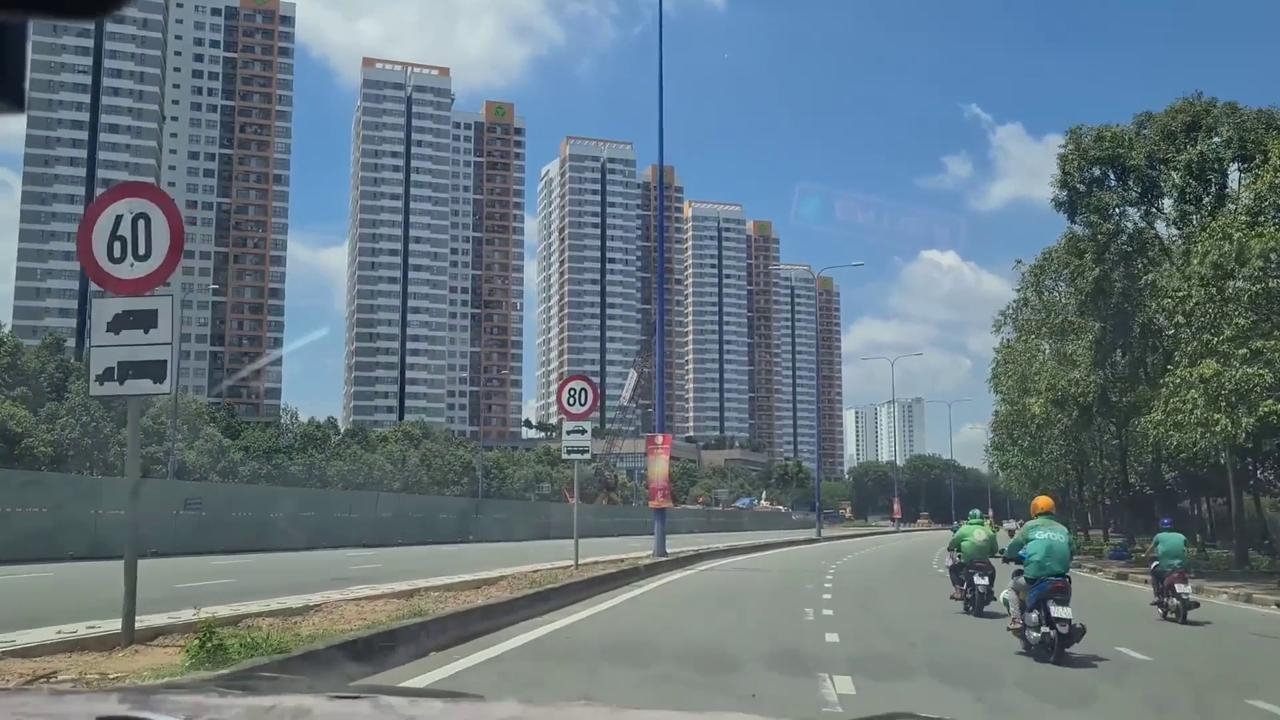Biển phụ: (89, 295, 174, 396), (561, 419, 593, 461)
GIơi hạn tốc độ 60Km/h: (76, 180, 189, 296)
Giới hạn tốc độ 80Km/h: (556, 374, 600, 422)
